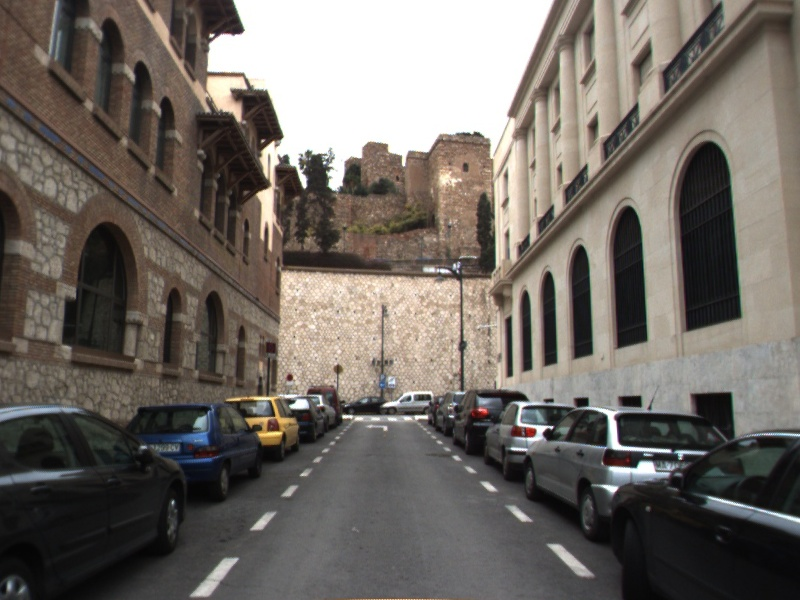LEFT: (363, 422, 390, 433)
